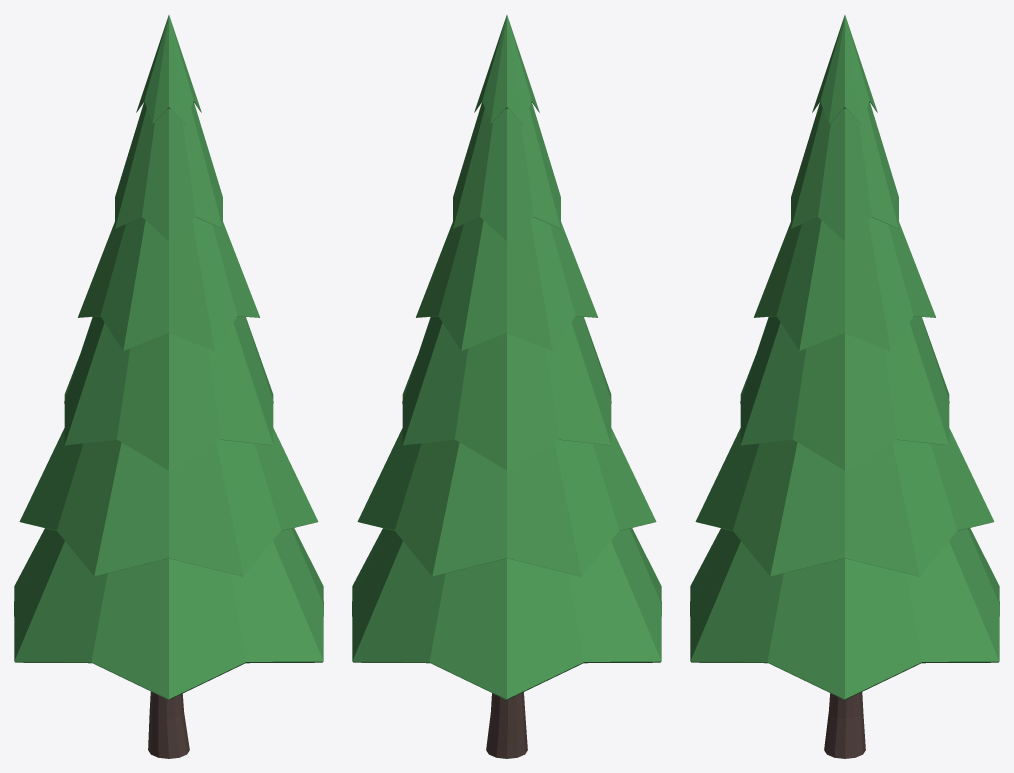
Rendered from Fichte_2.fbx.
The picture shows the model from 3 angles, left to right: view 1: azimuth 30°, elevation 25°; view 2: azimuth 150°, elevation 25°; view 3: azimuth 270°, elevation 25°; orthographic projection.
Visible parts, largest first — view 1: Leaves, Treetrunk; view 2: Leaves, Treetrunk; view 3: Leaves, Treetrunk.
Part boxes in pixels (x1,y1,x2,y2): Leaves: [14, 15, 323, 699]; Treetrunk: [148, 691, 189, 758]; Leaves: [352, 15, 661, 699]; Treetrunk: [486, 692, 527, 758]; Leaves: [690, 15, 999, 699]; Treetrunk: [824, 692, 865, 758].
Size of the model in its own units: 1708 by 3885 by 1482.
